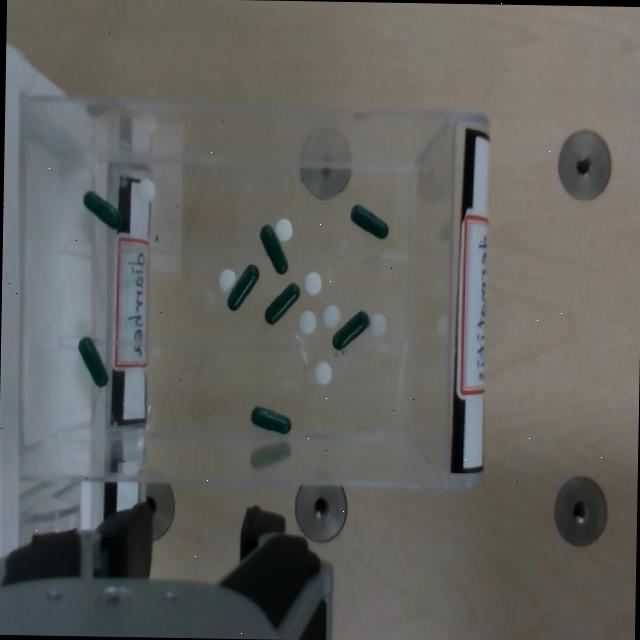ganakan_tab: (273, 214, 293, 241), (366, 309, 385, 337), (216, 265, 235, 291), (303, 270, 320, 295), (322, 303, 339, 327), (298, 309, 315, 333), (313, 360, 329, 383)
monodoxy_cap: (81, 187, 124, 231), (76, 332, 109, 387), (329, 306, 368, 351), (225, 261, 259, 310), (263, 280, 300, 324), (257, 221, 288, 273), (82, 190, 122, 228), (348, 201, 388, 238), (78, 335, 107, 386), (332, 309, 369, 348), (227, 262, 258, 308), (265, 282, 299, 322), (260, 223, 287, 272), (248, 402, 290, 433), (350, 203, 388, 237), (250, 404, 290, 432)
